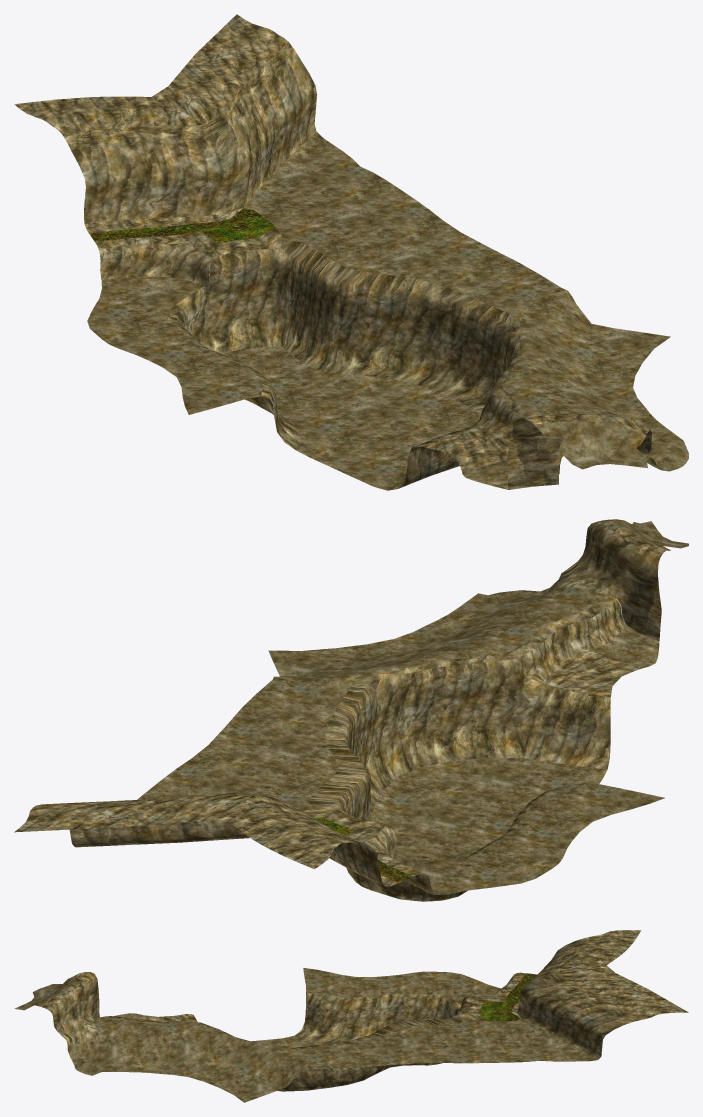
Rendered from RM_PLAYSURFACE_FINAL_OBJECT07.fbx.
The picture shows the model from 3 angles, top to bottom: view 1: azimuth 30°, elevation 25°; view 2: azimuth 150°, elevation 25°; view 3: azimuth 270°, elevation 25°; orthographic projection. The views are drawn at different scales.
Visible parts, largest first — view 1: RM_PLAYSURFACE_FINAL_OBJECT07; view 2: RM_PLAYSURFACE_FINAL_OBJECT07; view 3: RM_PLAYSURFACE_FINAL_OBJECT07.
Boxes of the visible parts, box(x1,y1,x2,y2) form: RM_PLAYSURFACE_FINAL_OBJECT07: box(14, 14, 688, 490); RM_PLAYSURFACE_FINAL_OBJECT07: box(14, 519, 688, 901); RM_PLAYSURFACE_FINAL_OBJECT07: box(14, 930, 688, 1102).
Bounding box in the file's own units: 312796 × 107551 × 644455.
5 materials, 5 textured.
